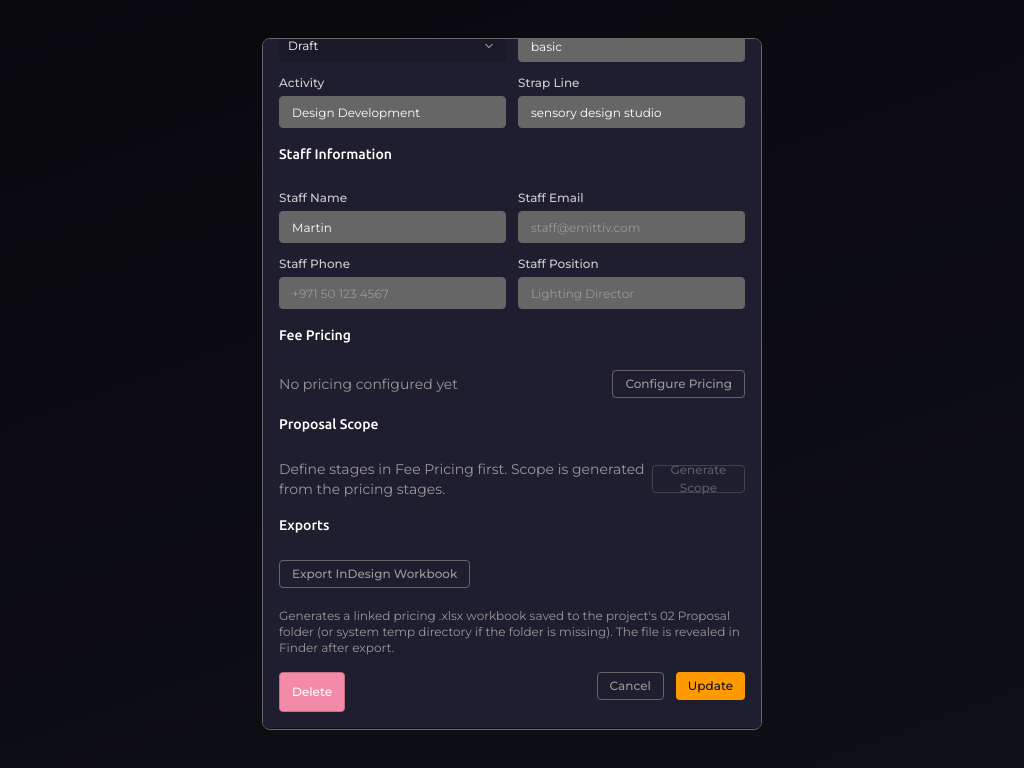
Scenario: ProposalModal Component › CRUD Operations › should show delete confirmation
The image size is (1024, 768).
(page scrolled)
Click the button "Delete" at [312, 692], box [279, 672, 345, 712]
(page scrolled)
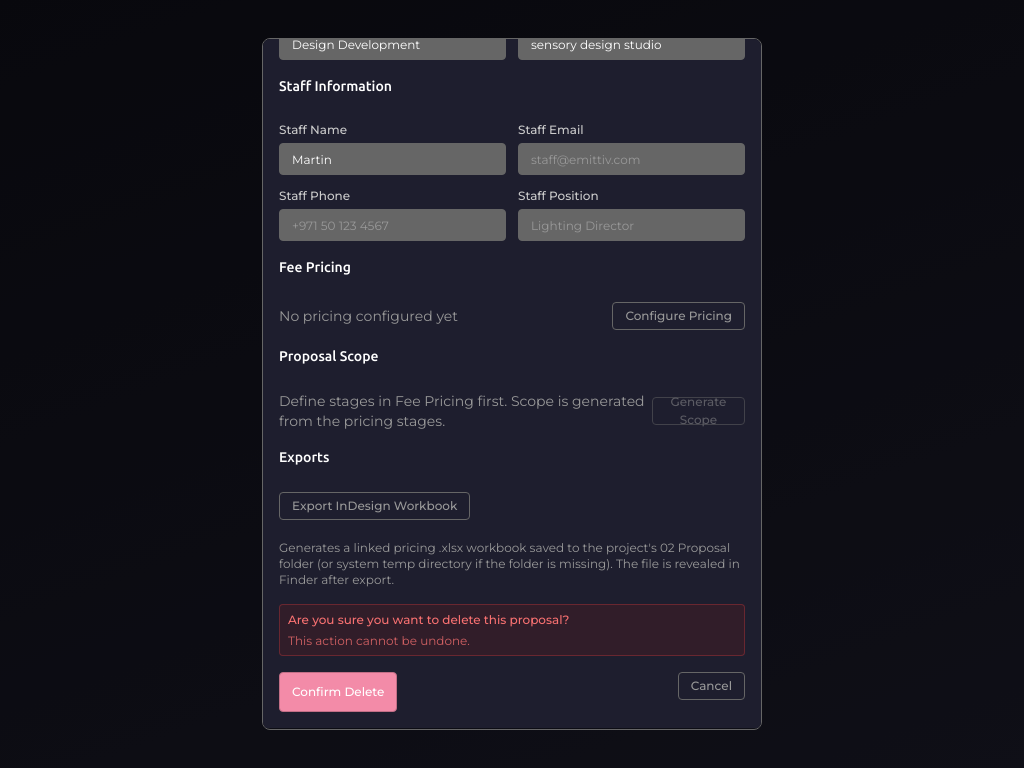
Result: the text "Are you sure you want to delete this proposal?" is shown at [288, 612, 569, 627]
Result: the button "Confirm Delete" is shown at [279, 672, 398, 712]
